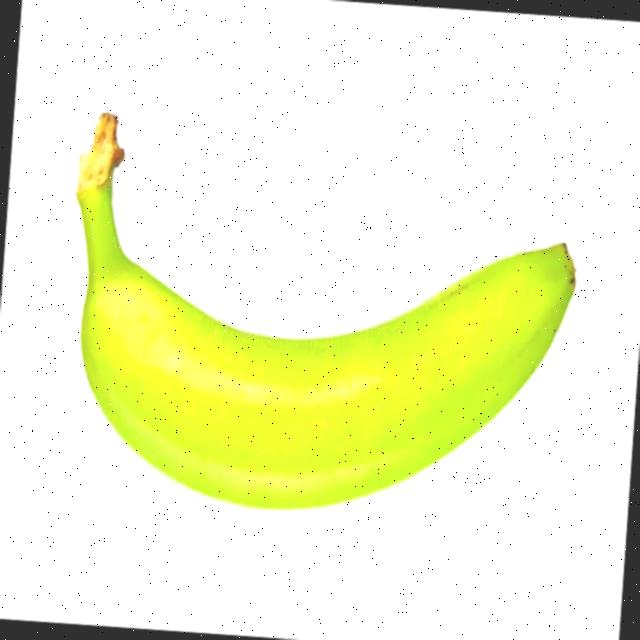Unripe: (37, 78, 602, 551)
